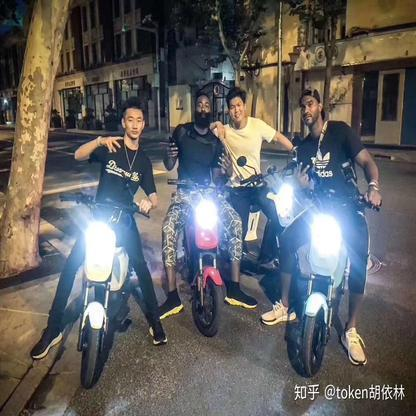target: (269, 88, 382, 376), (53, 99, 164, 390), (165, 95, 258, 338)
